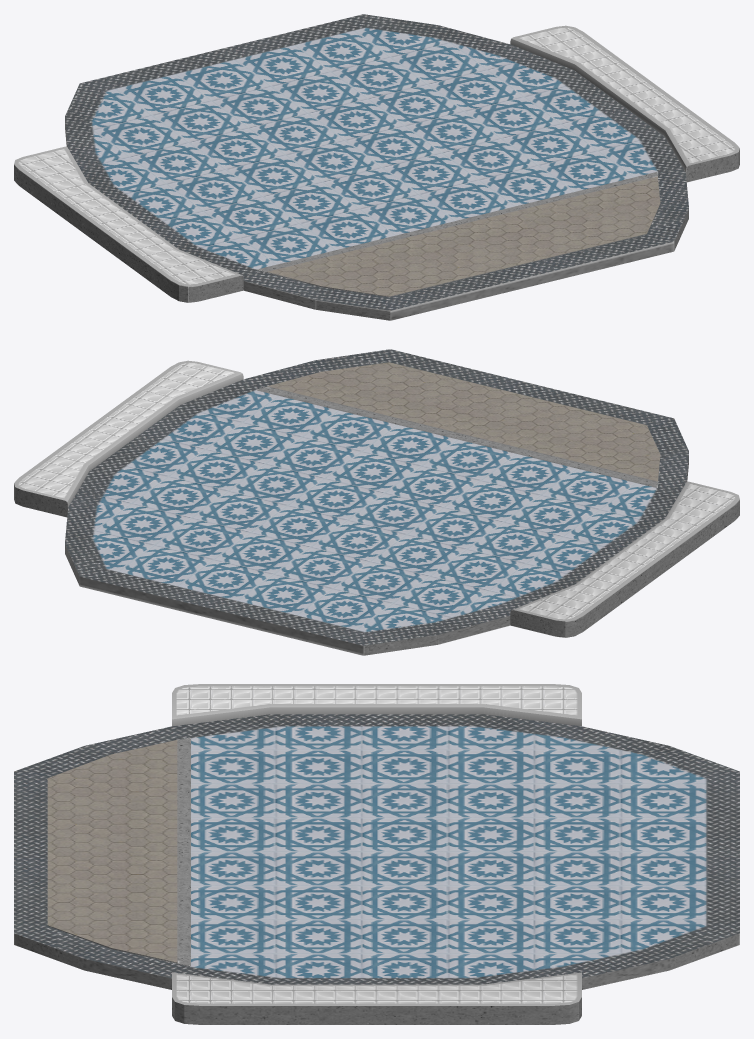
Rendered from CP_Platform.FBX.
3 views of the same model, one above another, from view 1: azimuth 30°, elevation 25°; view 2: azimuth 150°, elevation 25°; view 3: azimuth 270°, elevation 25° (orthographic). The views are drawn at different scales.
Parts seen in each view (by area): view 1: PlatformCP_01; view 2: PlatformCP_01; view 3: PlatformCP_01.
Part boxes in pixels (box(x1,y1,x2,y2)): PlatformCP_01: box(14, 14, 739, 320); PlatformCP_01: box(14, 349, 739, 655); PlatformCP_01: box(14, 684, 739, 1024).
Size of the model in its own units: 42.46 by 1.17 by 40.48.
